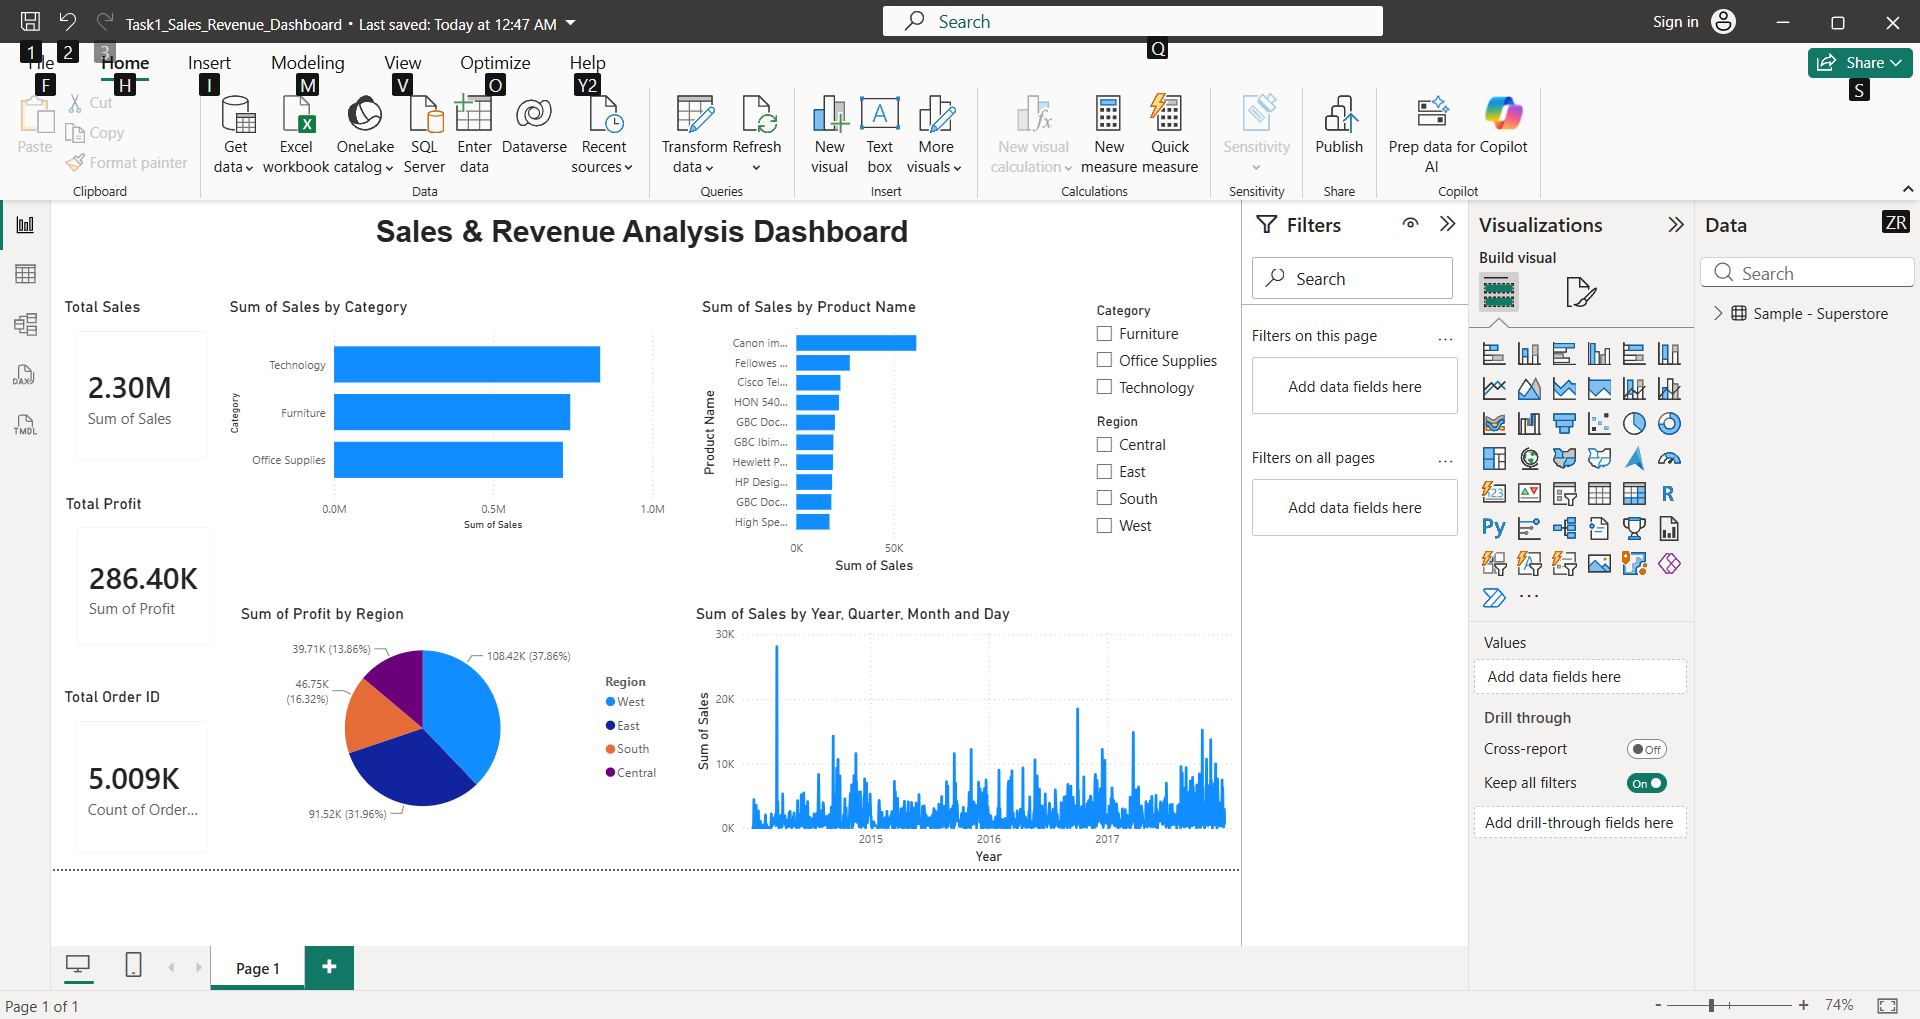

The dashboard page shown, as its layout file describes it:
{"tool":"powerbi","page":{"name":"Page 1","canvas":[1280,720],"ordinal":0},"visuals":[{"type":"cardVisual","title":"Total Sales","fields":{"Data":["Sum(Sample - Superstore.Sales)"]},"box":[9.4,105,177.7,192.5],"z":0},{"type":"cardVisual","title":"Total Profit","fields":{"Data":["Sum(Sample - Superstore.Profit)"]},"box":[10.8,316.4,179,180.4],"z":1},{"type":"cardVisual","title":"Total Order ID ","fields":{"Data":["Count(Sample - Superstore.Order ID)"]},"box":[9.4,525,177.7,195.2],"z":2},{"type":"clusteredBarChart","fields":{"Category":["Sample - Superstore.Category"],"Y":["Sum(Sample - Superstore.Sales)"]},"box":[187.1,105,479.3,255.8],"z":3},{"type":"pieChart","fields":{"Category":["Sample - Superstore.Region"],"Y":["Sum(Sample - Superstore.Profit)"]},"box":[199.2,434.8,467.1,249.1],"z":4},{"type":"textbox","box":[344.4,12.2,591.5,51.3],"z":6},{"type":"slicer","fields":{"Values":["Sample - Superstore.Region"]},"box":[1112,224.8,129.2,145.4],"z":7},{"type":"slicer","fields":{"Values":["Sample - Superstore.Category"]},"box":[1112,105,168.3,119.8],"z":8},{"type":"lineChart","fields":{"Y":["Sum(Sample - Superstore.Sales)"],"Category":["Sample - Superstore.Order Date.Variation.Date Hierarchy.Year","Sample - Superstore.Order Date.Variation.Date Hierarchy.Quarter","Sample - Superstore.Order Date.Variation.Date Hierarchy.Month","Sample - Superstore.Order Date.Variation.Date Hierarchy.Day"]},"box":[687.9,434.8,592.3,285.4],"z":10},{"type":"barChart","fields":{"Category":["Sample - Superstore.Product Name"],"Y":["Sum(Sample - Superstore.Sales)"]},"box":[694.7,105,289.4,301.6],"z":11}]}

Visuals, with their boxes on the page's 1280x720 design canvas (x1, y1, x2, y2). These are canvas units, not pixel positions in the 1920x1019 screenshot, which may show the page scaled, cropped or inside an application window:
"Total Sales" cardVisual: {"x1": 9, "y1": 105, "x2": 187, "y2": 298}
"Total Profit" cardVisual: {"x1": 11, "y1": 316, "x2": 190, "y2": 497}
"Total Order ID " cardVisual: {"x1": 9, "y1": 525, "x2": 187, "y2": 720}
clusteredBarChart - Sample - Superstore.Category x Sum(Sample - Superstore.Sales): {"x1": 187, "y1": 105, "x2": 666, "y2": 361}
pieChart - Sample - Superstore.Region x Sum(Sample - Superstore.Profit): {"x1": 199, "y1": 435, "x2": 666, "y2": 684}
textbox: {"x1": 344, "y1": 12, "x2": 936, "y2": 64}
slicer - Sample - Superstore.Region: {"x1": 1112, "y1": 225, "x2": 1241, "y2": 370}
slicer - Sample - Superstore.Category: {"x1": 1112, "y1": 105, "x2": 1280, "y2": 225}
lineChart - Sum(Sample - Superstore.Sales) x Sample - Superstore.Order Date.Variation.Date Hierarchy.Year: {"x1": 688, "y1": 435, "x2": 1280, "y2": 720}
barChart - Sample - Superstore.Product Name x Sum(Sample - Superstore.Sales): {"x1": 695, "y1": 105, "x2": 984, "y2": 407}
